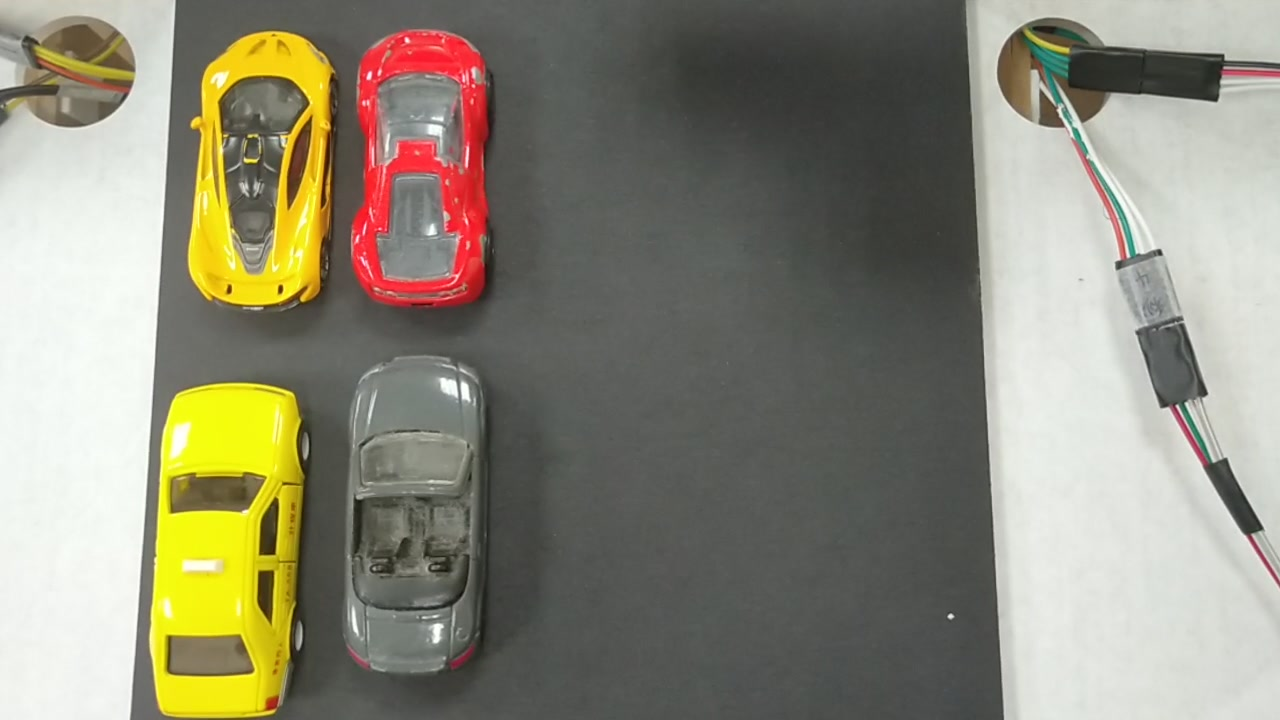car: (150, 387, 297, 717), (350, 362, 488, 678), (184, 35, 333, 309), (357, 30, 482, 306)
